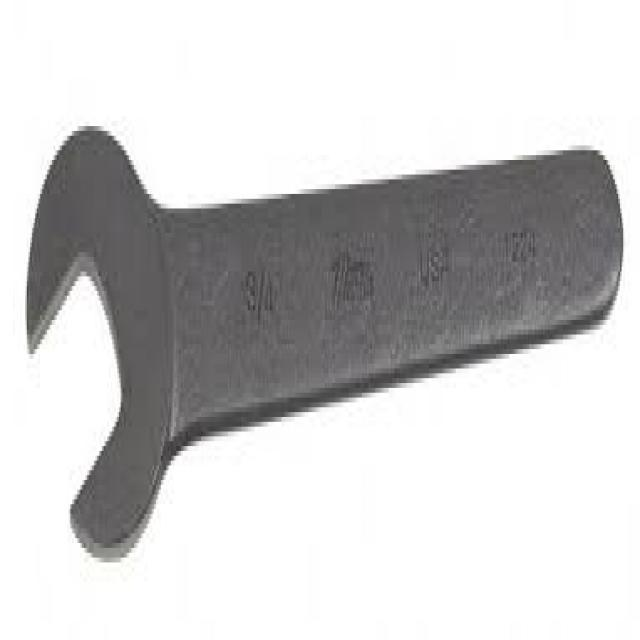wrench: (19, 102, 626, 570)
